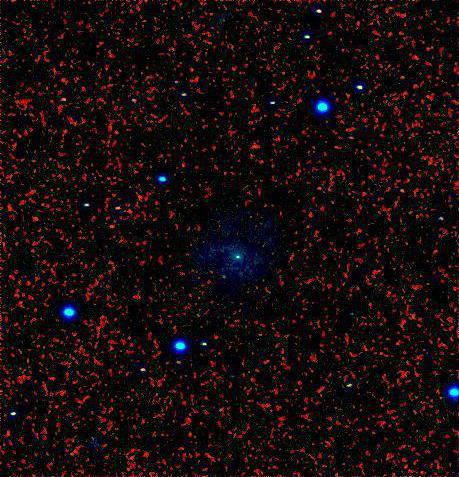star: (209, 261, 239, 291)
